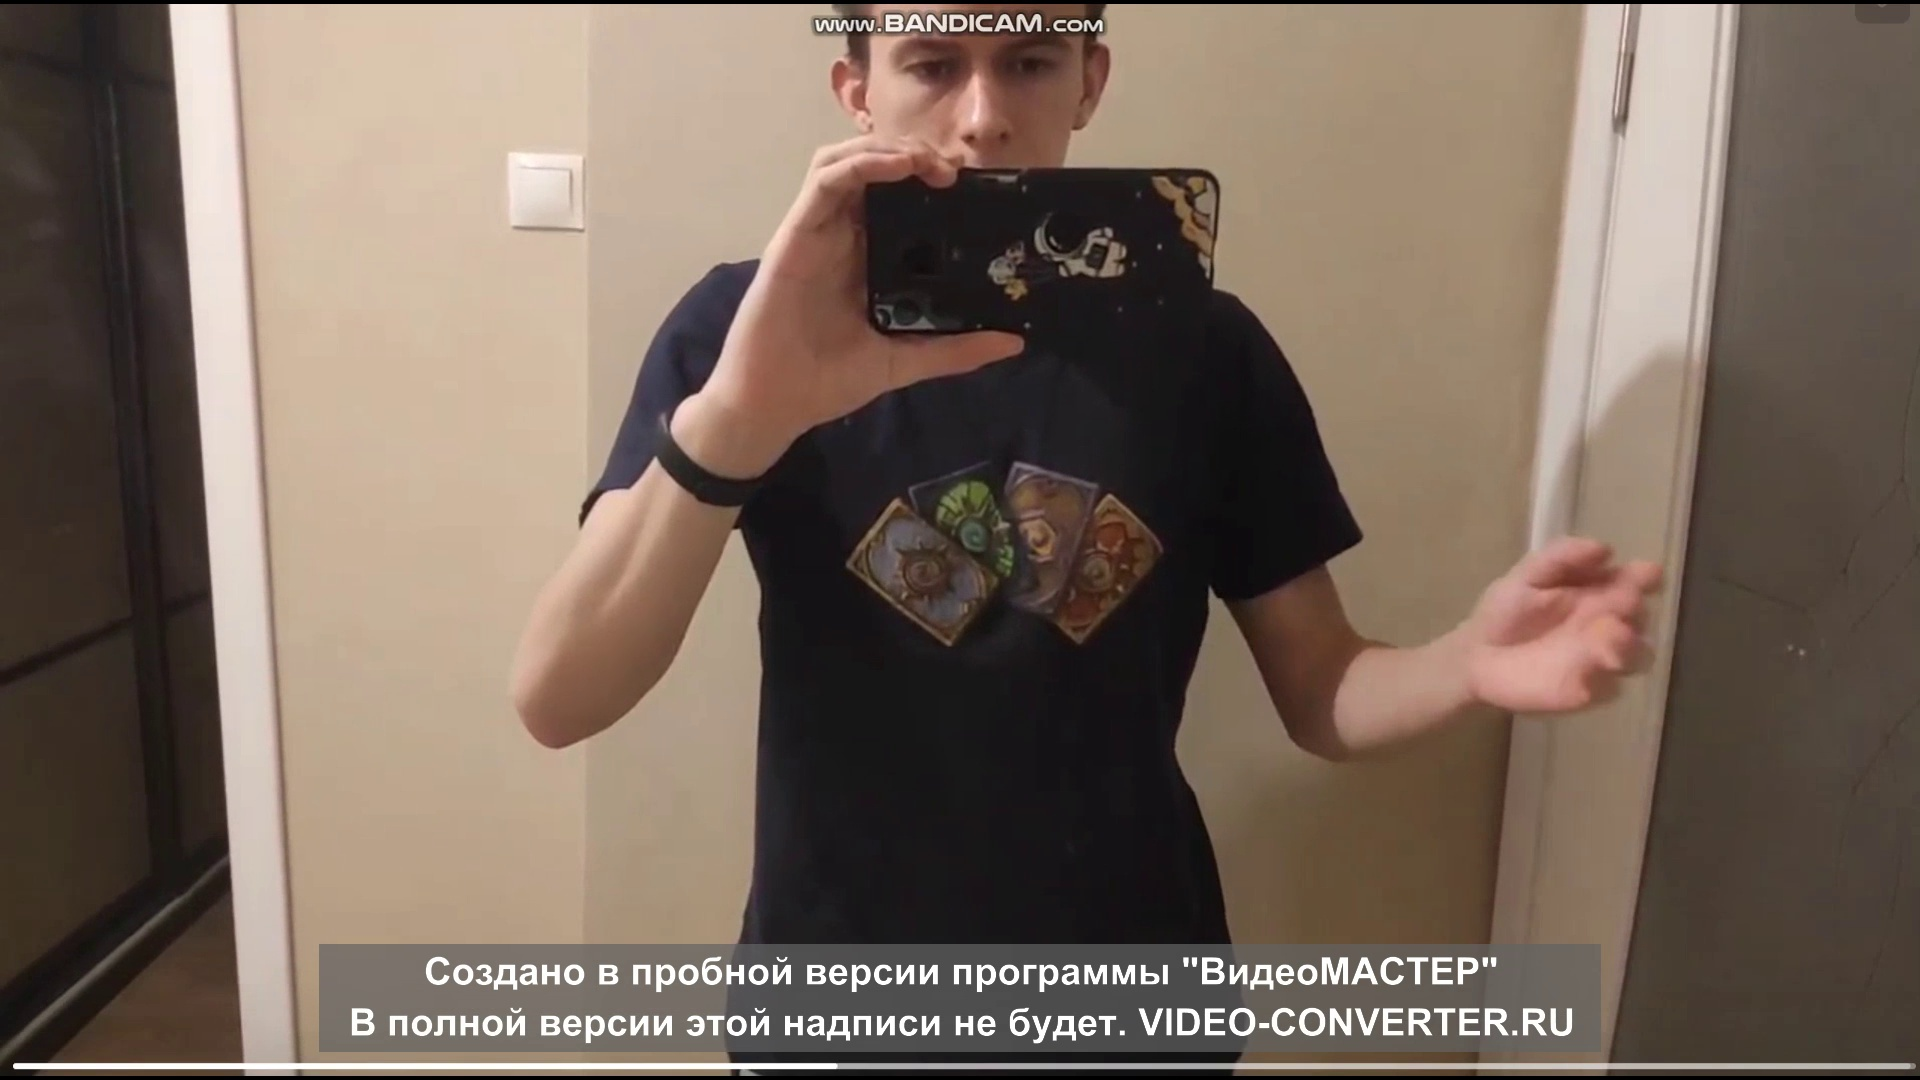Ладонь: (1474, 537, 1669, 711)
